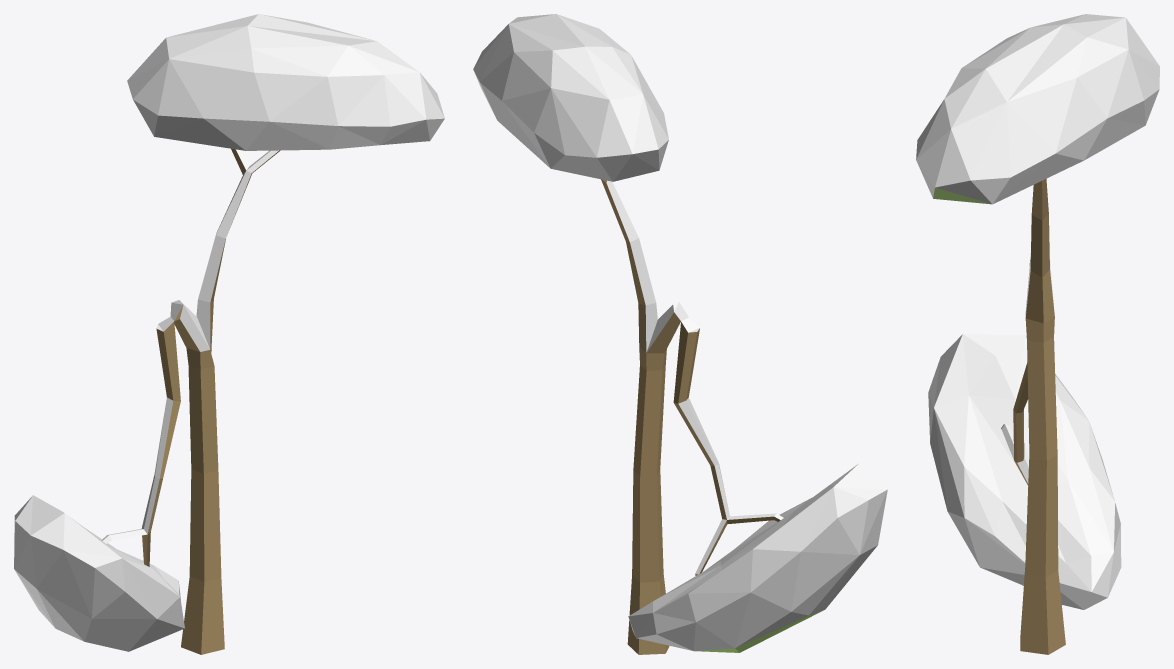
File: Acacia_Tree_crk_s_Snow_01.fbx
3 renders of one model, left to right at view 1: azimuth 30°, elevation 25°; view 2: azimuth 150°, elevation 25°; view 3: azimuth 270°, elevation 25°, orthographic. The views are drawn at different scales.
Visible parts, largest first — view 1: Acacia_Tree_crk_s_Snow_01; view 2: Acacia_Tree_crk_s_Snow_01; view 3: Acacia_Tree_crk_s_Snow_01.
Boxes of the visible parts, x1,y1,x2,y2 form: Acacia_Tree_crk_s_Snow_01: (14,14,444,654); Acacia_Tree_crk_s_Snow_01: (473,14,887,654); Acacia_Tree_crk_s_Snow_01: (916,14,1159,654).
Bounding box in the file's own units: 441 × 619 × 211.
